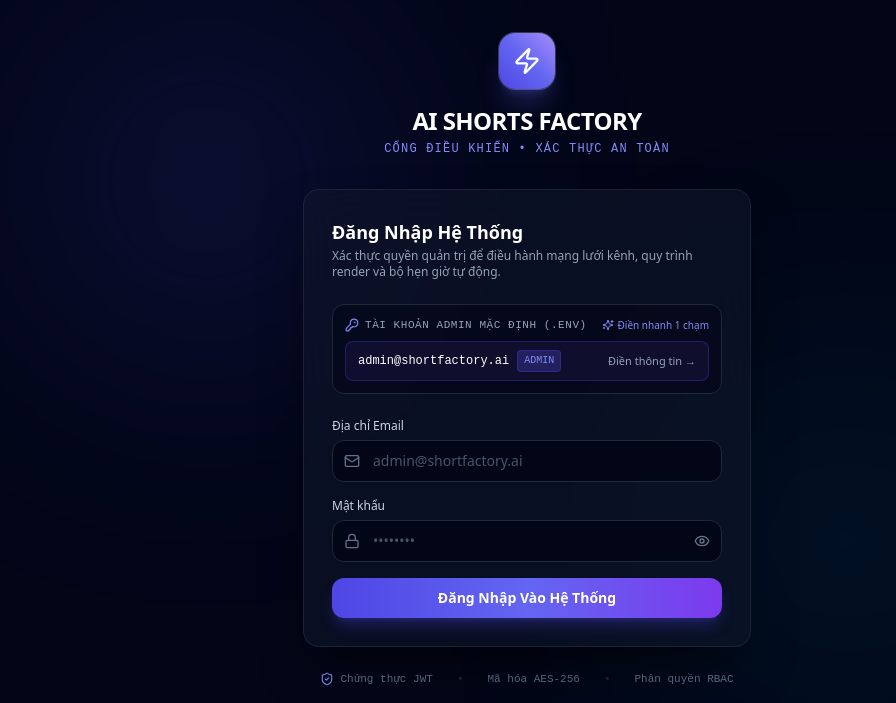
LoginPage Component › populates fields when Quick-Fill Admin is clicked
What coordinates should you click on to do the following:
click the button "admin@shortfactory.ai ADMIN Điền thông tin →"
I would click on:
 (527, 361)
Its box is [345,341,709,381].
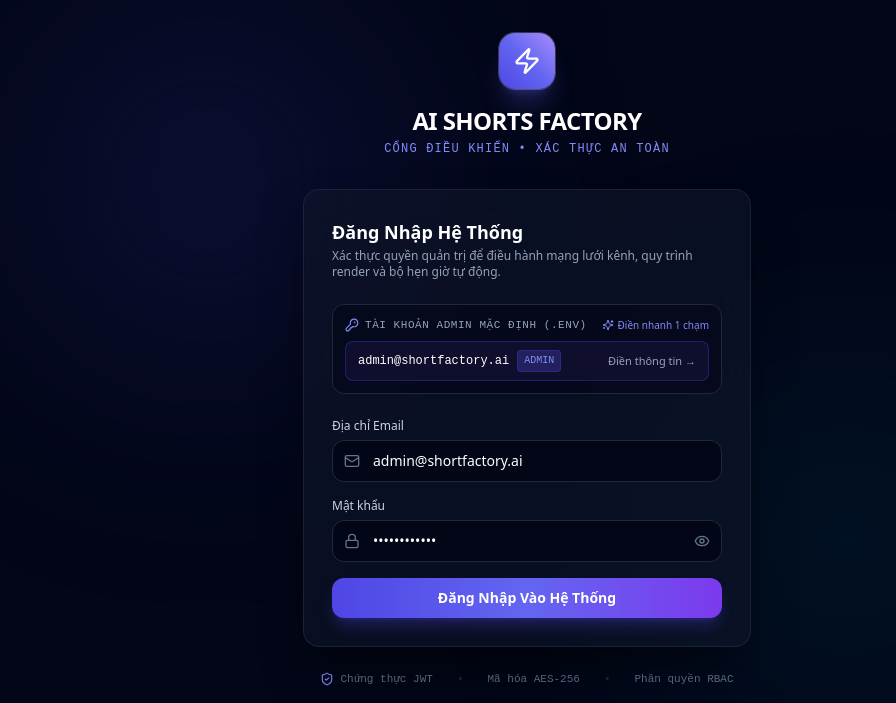
Expected: the field with placeholder "admin@shortfactory.ai" holds "admin@shortfactory.ai", [332,440,722,482]
Expected: the password field with placeholder "••••••••" holds "Admin@123456", [332,520,722,562]
